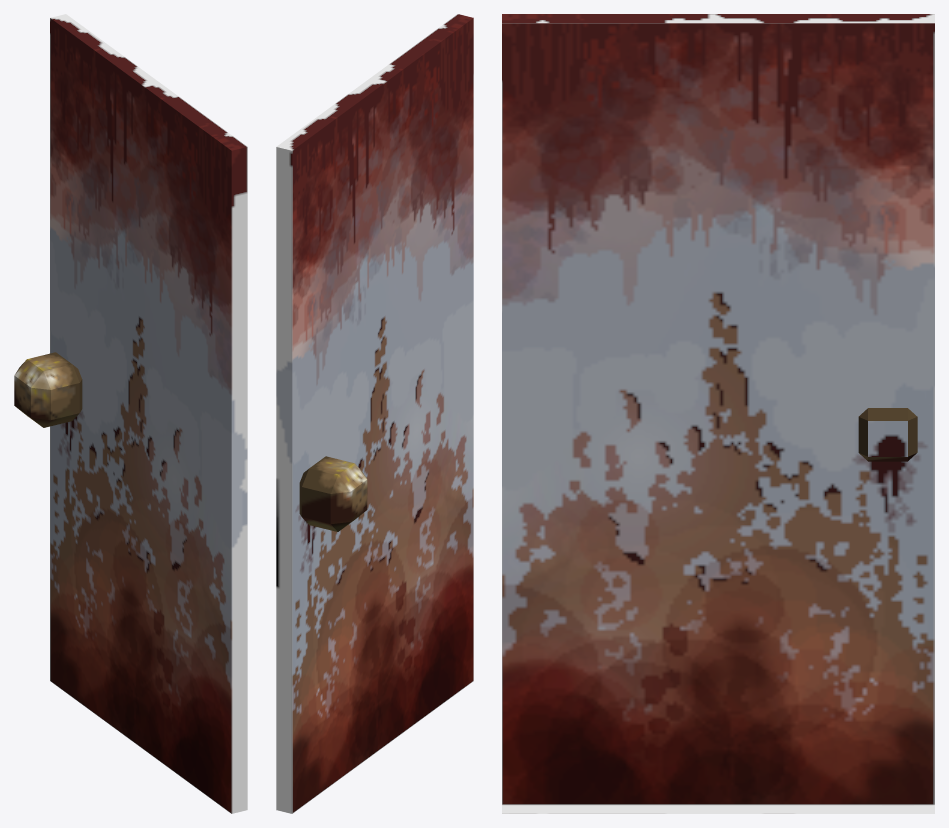
File: door.obj
3 views of the same model, side by side, from view 1: azimuth 30°, elevation 25°; view 2: azimuth 150°, elevation 25°; view 3: azimuth 270°, elevation 25° (orthographic). The views are drawn at different scales.
Parts seen in each view (by area): view 1: door; view 2: door; view 3: door.
Part boxes in pixels (left/top/right/bottom): door: left=14, top=14, right=247, bottom=813; door: left=276, top=14, right=473, bottom=813; door: left=502, top=14, right=934, bottom=813.
Size of the model in its own units: 0.3954 by 3.97 by 1.97.
